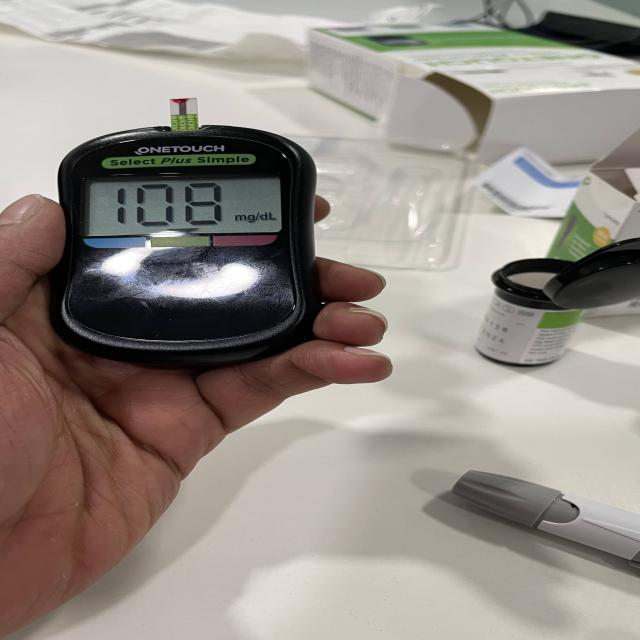gluco: (48, 123, 320, 372)
